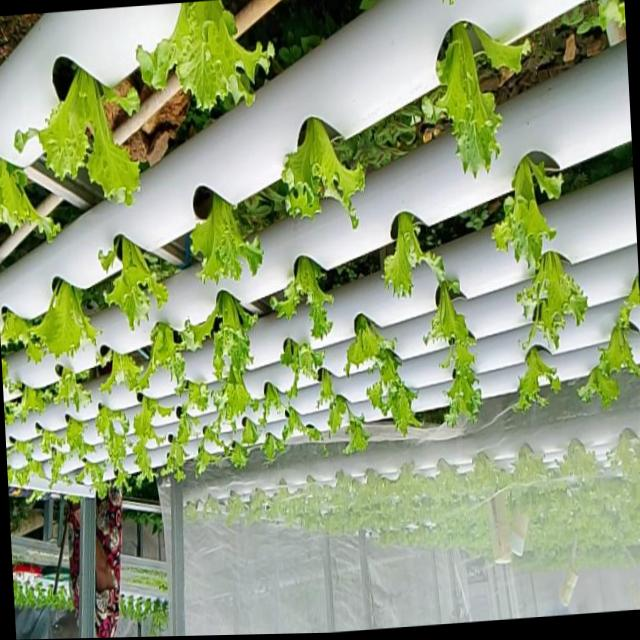Baby: (11, 72, 136, 208), (132, 2, 270, 112), (421, 22, 498, 179), (279, 117, 362, 229), (422, 273, 479, 426), (489, 156, 559, 268), (187, 186, 260, 283), (515, 252, 585, 349), (100, 235, 165, 330), (29, 280, 98, 363), (380, 213, 443, 298), (268, 256, 331, 339), (126, 321, 192, 393), (365, 349, 420, 435), (594, 306, 640, 380), (267, 338, 322, 398), (93, 405, 131, 488), (342, 314, 393, 374), (512, 346, 558, 412), (210, 365, 256, 428), (73, 462, 106, 498), (63, 418, 91, 460), (199, 421, 222, 453), (184, 382, 207, 412), (47, 449, 64, 486)
